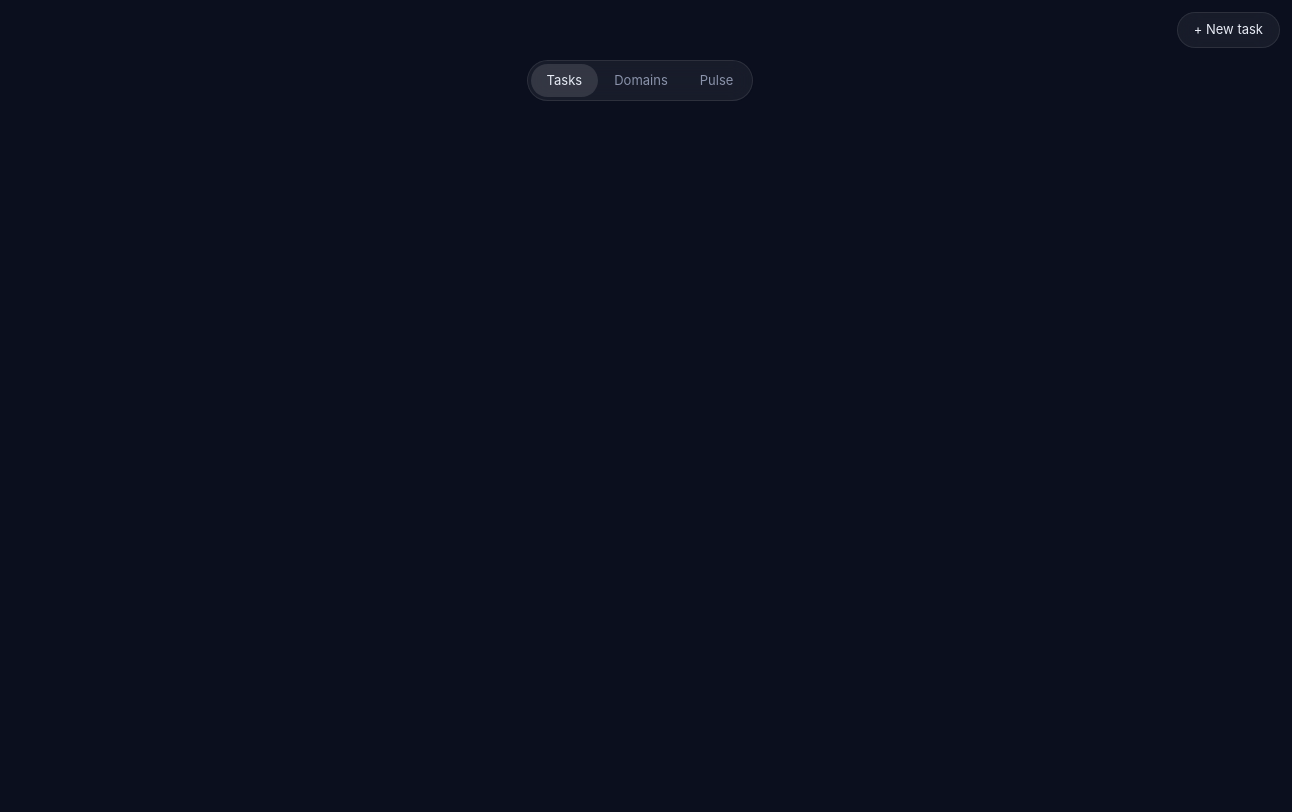
Test case: TasksView — Segmented sub-nav (S58) › switches to Pulse and renders PulseView unchanged (Done this week metric)
Click the tab "Pulse".
click(717, 80)  # box top-left (684, 64), bottom-right (749, 97)
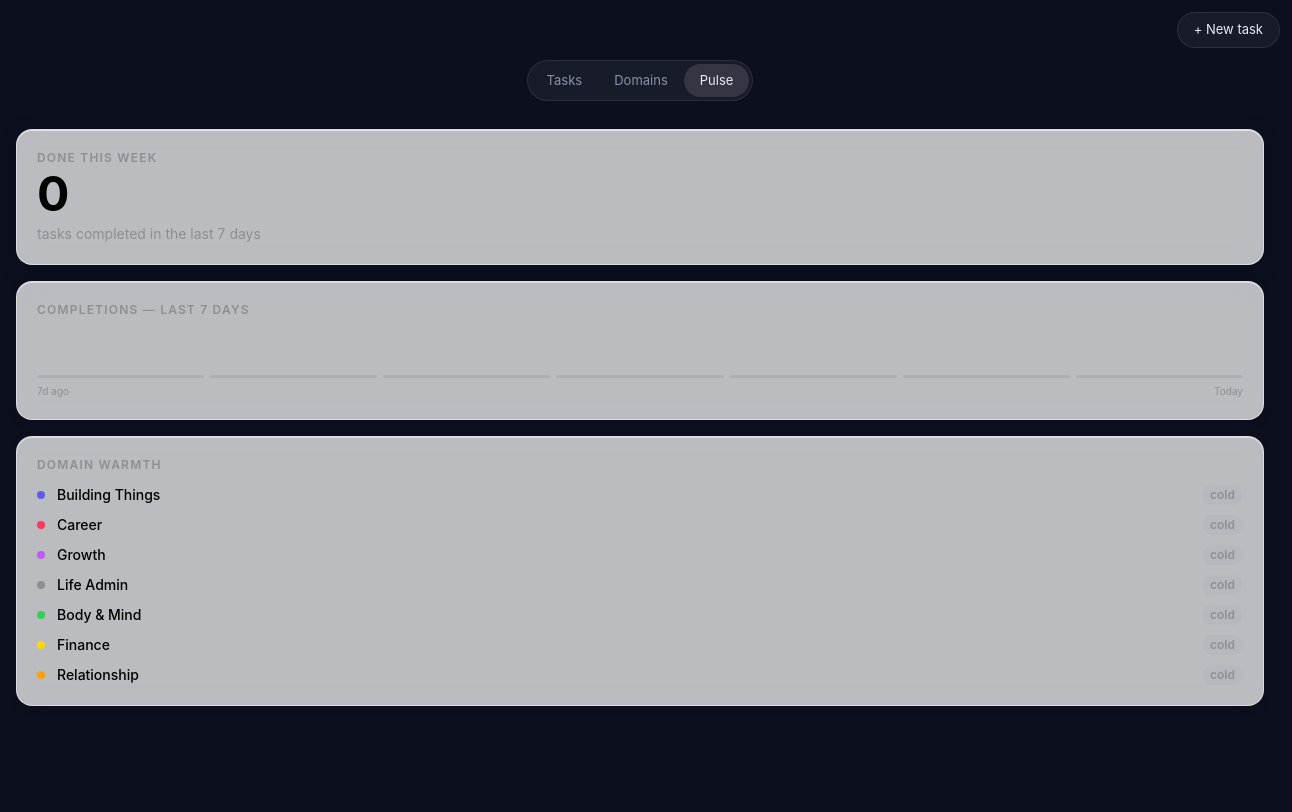
Check: the text "Done this week" is shown, box top-left (37, 150), bottom-right (157, 165)
